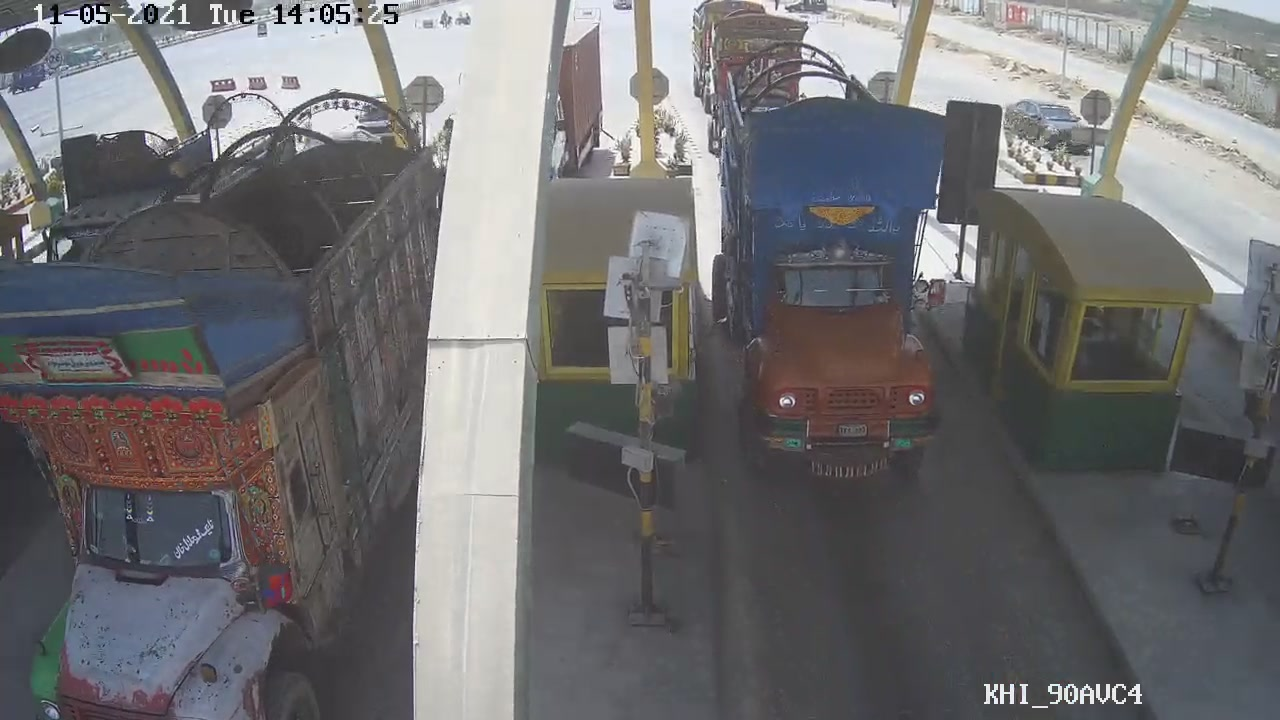F5: (708, 61, 960, 492)
